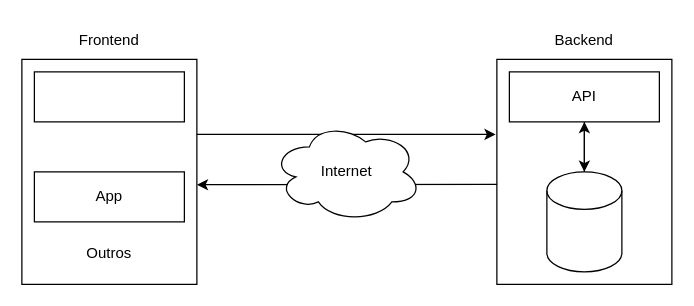
This 694x306 diagram has some shape labels left out. Each missing label, with the centre of its shape:
"Database" goes at pixel 584 221.
"Navegador" goes at pixel 108 96.
